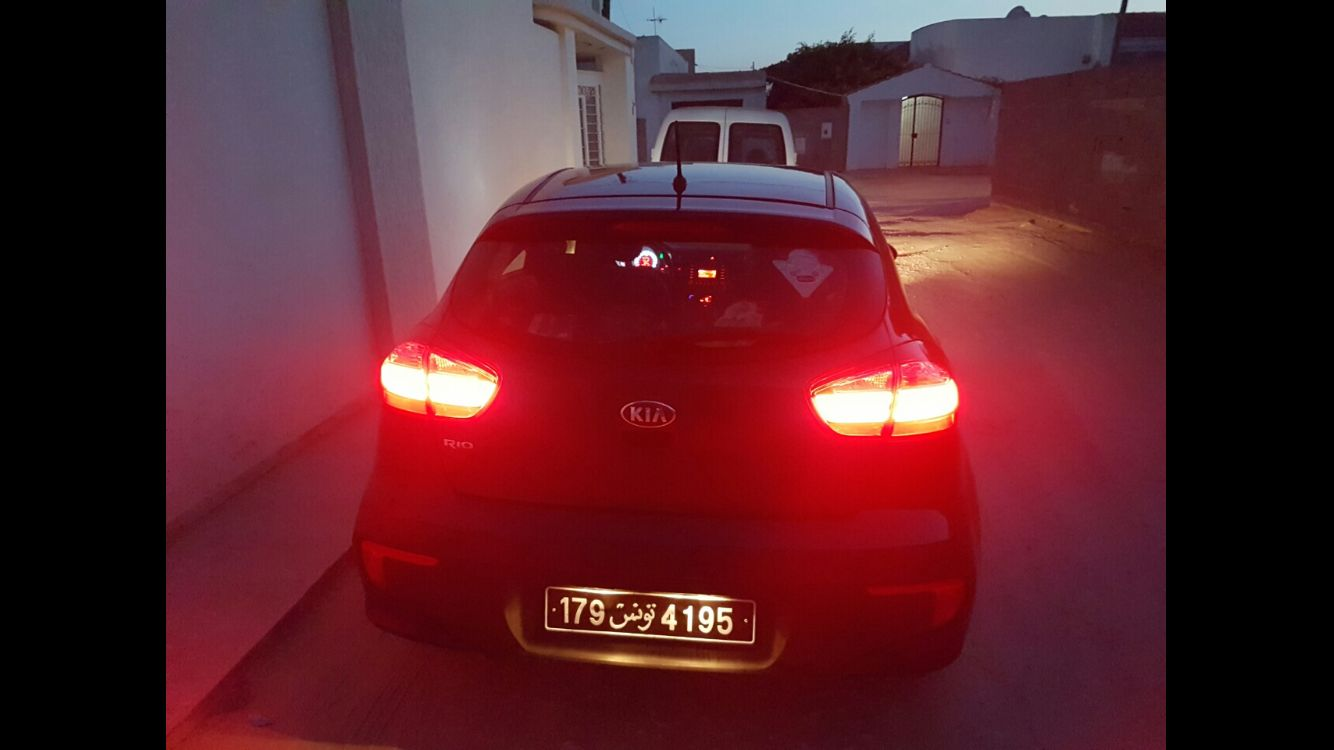LP: (538, 584, 767, 650)
